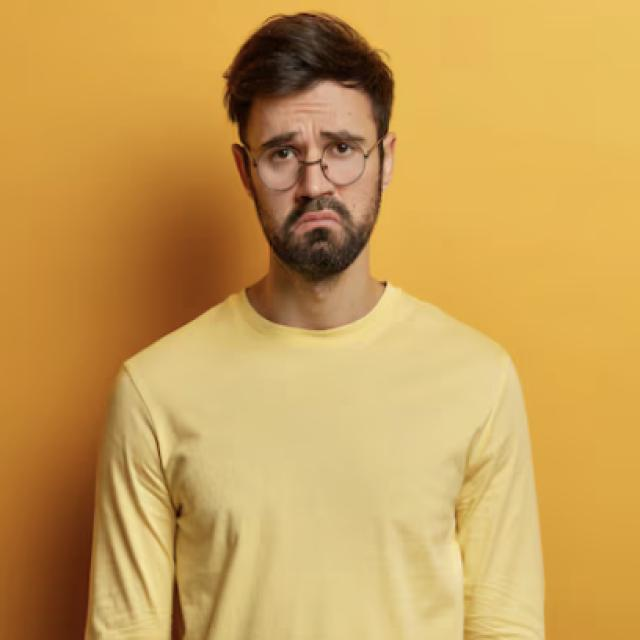sad: (223, 35, 402, 278)
